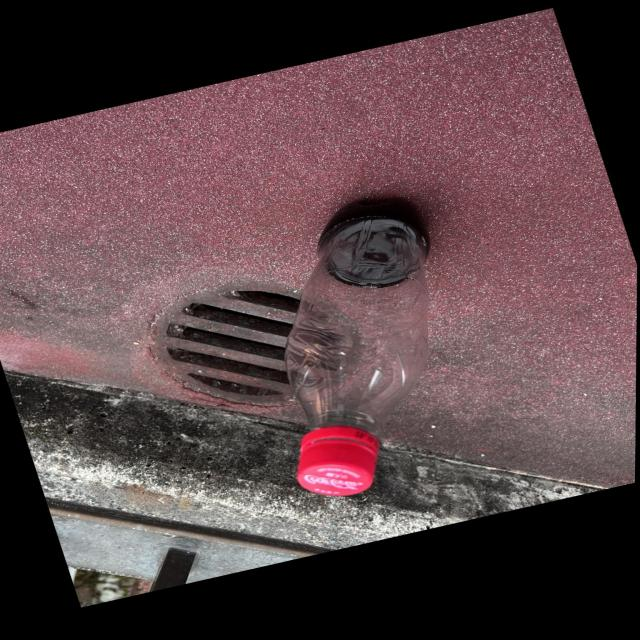low: (285, 198, 429, 495)
